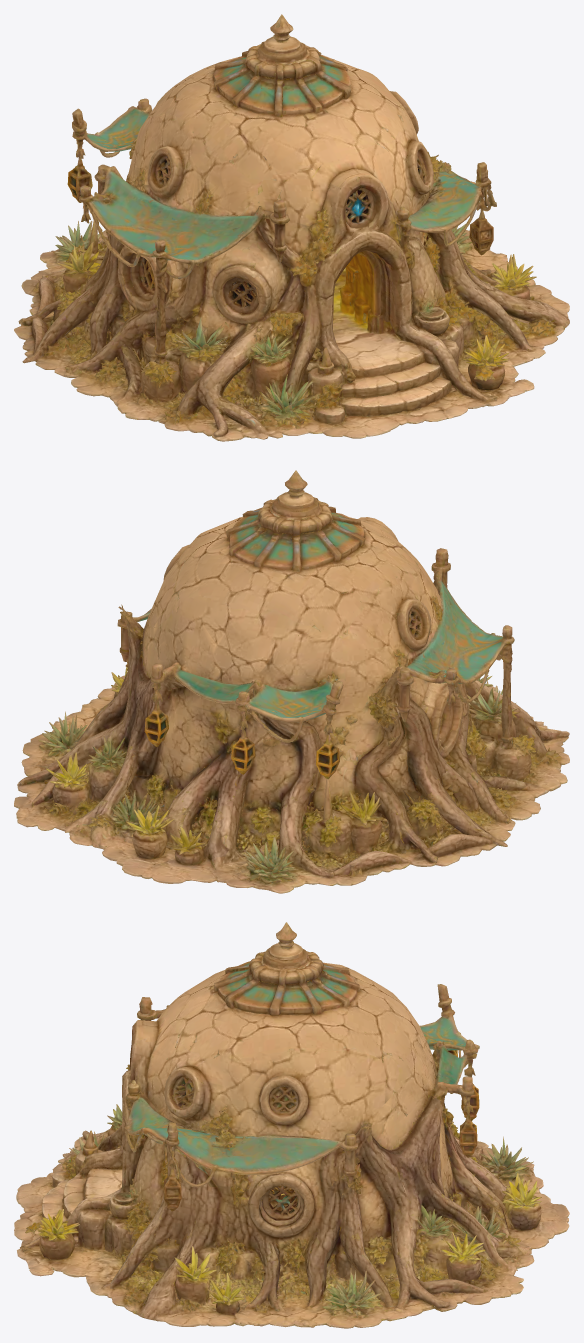
Rendered from sandstone-dome-dwelling.glb.
The picture shows the model from 3 angles, top to bottom: view 1: azimuth 30°, elevation 25°; view 2: azimuth 150°, elevation 25°; view 3: azimuth 270°, elevation 25°; orthographic projection. The views are drawn at different scales.
Size of the model in its own units: 1.79 by 1.12 by 1.9.
1 material, 1 textured.
